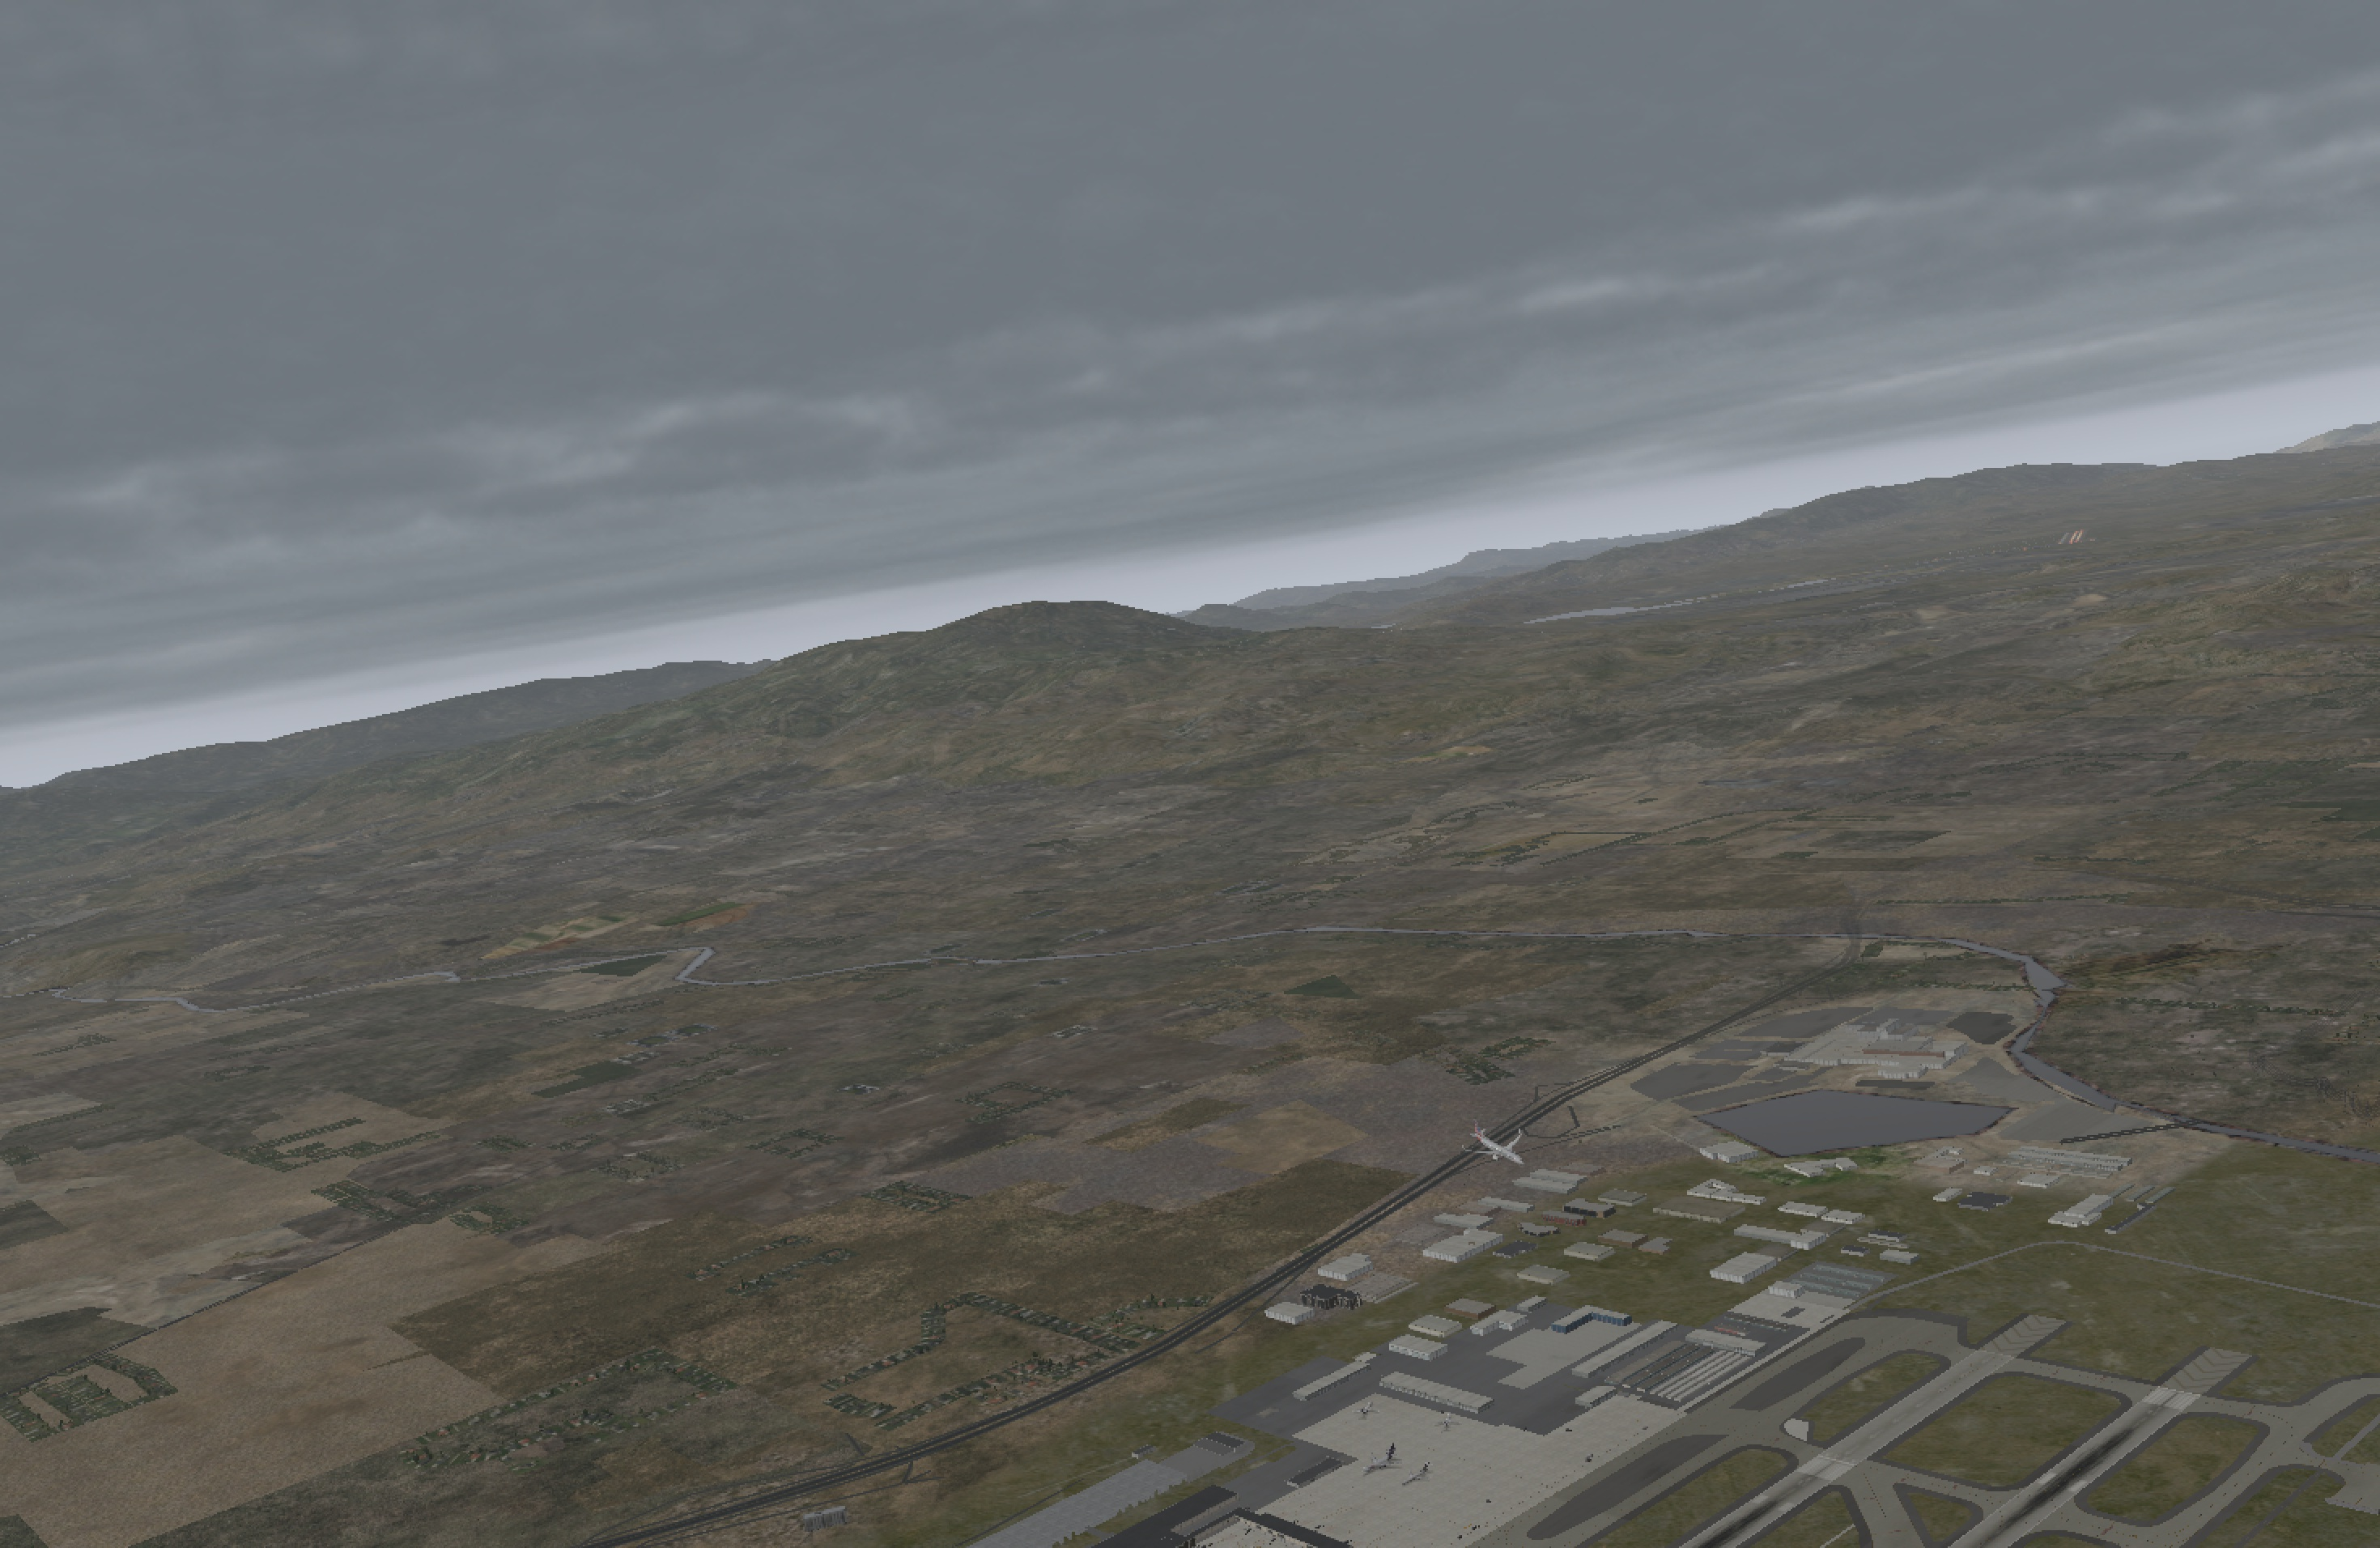aircraft: (1461, 1137, 1540, 1166)
